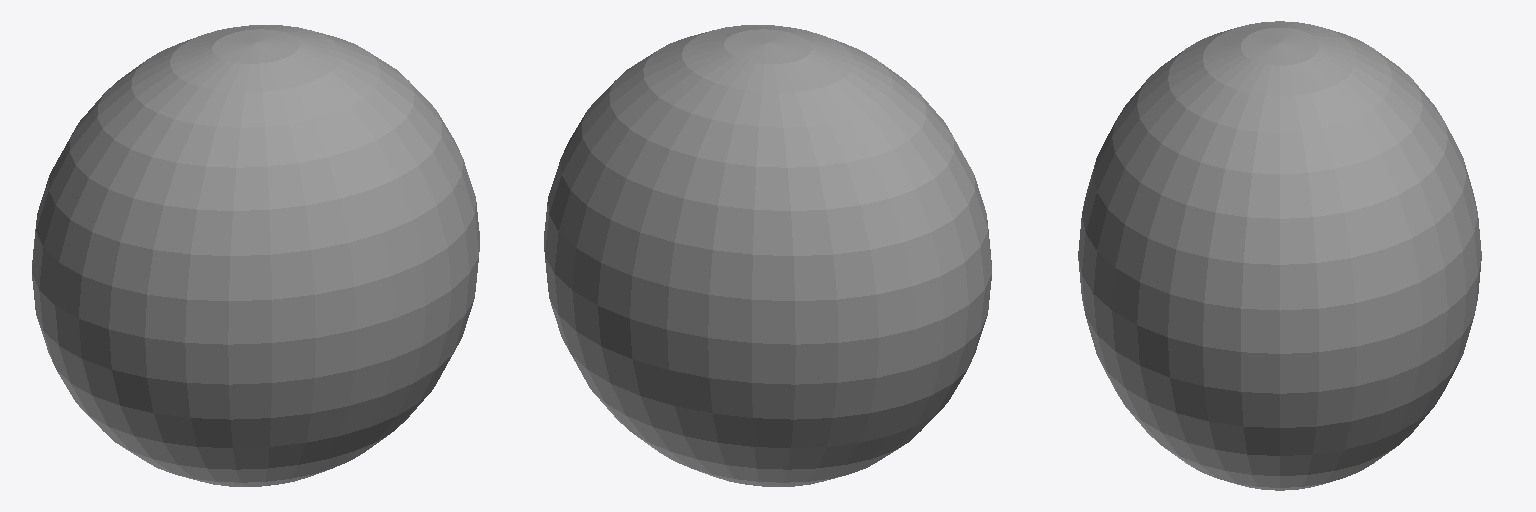
Rendered from sphere-purple.obj.
3 renders of one model, left to right at view 1: azimuth 30°, elevation 25°; view 2: azimuth 150°, elevation 25°; view 3: azimuth 270°, elevation 25°, orthographic.
Visible parts, largest first — view 1: Sphere.001; view 2: Sphere.001; view 3: Sphere.001.
Boxes of the visible parts, x1=… form: Sphere.001: x1=32, y1=25, x2=479, y2=486; Sphere.001: x1=544, y1=25, x2=991, y2=486; Sphere.001: x1=1078, y1=21, x2=1481, y2=490.
Size of the model in its own units: 0.5838 by 0.5926 by 0.5082.